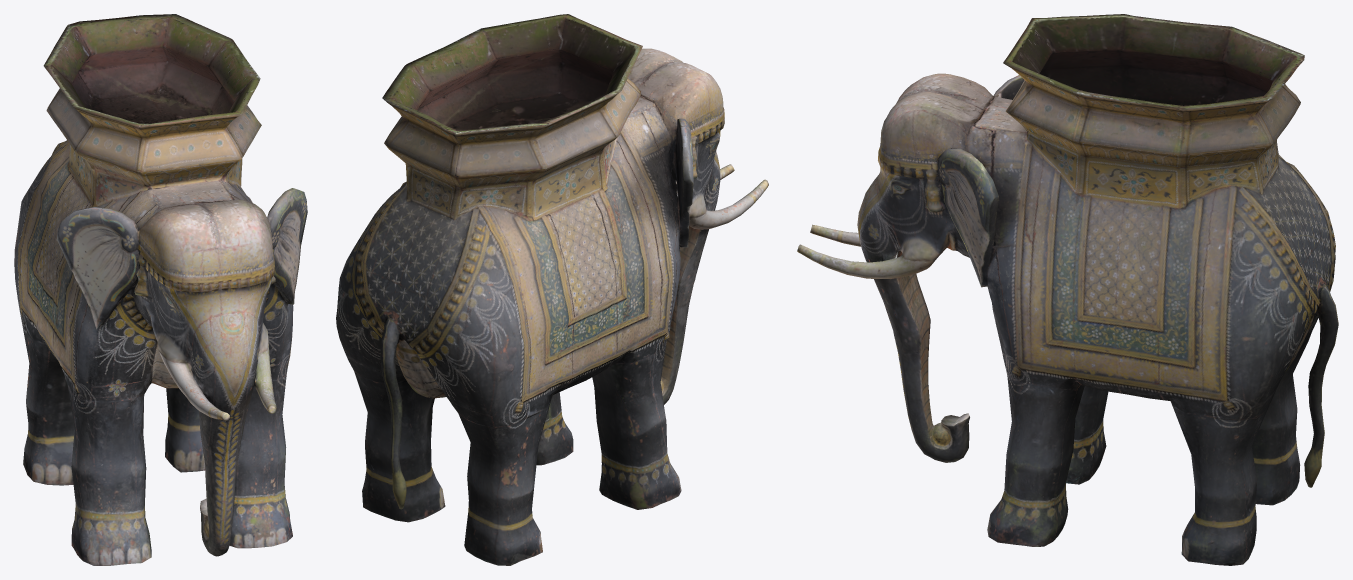
File: object_4.009_lev2.glb
3 views of the same model, side by side, from view 1: azimuth 30°, elevation 25°; view 2: azimuth 150°, elevation 25°; view 3: azimuth 270°, elevation 25° (orthographic). The views are drawn at different scales.
Visible parts, largest first — view 1: object_4.009_lev2; view 2: object_4.009_lev2; view 3: object_4.009_lev2.
Part boxes in pixels (x1=…): object_4.009_lev2: x1=14, y1=14, x2=307, y2=565; object_4.009_lev2: x1=336, y1=14, x2=768, y2=565; object_4.009_lev2: x1=797, y1=14, x2=1338, y2=565.
Bounding box in the file's own units: 18.97 × 29.83 × 32.03.
1 material, 1 textured.
